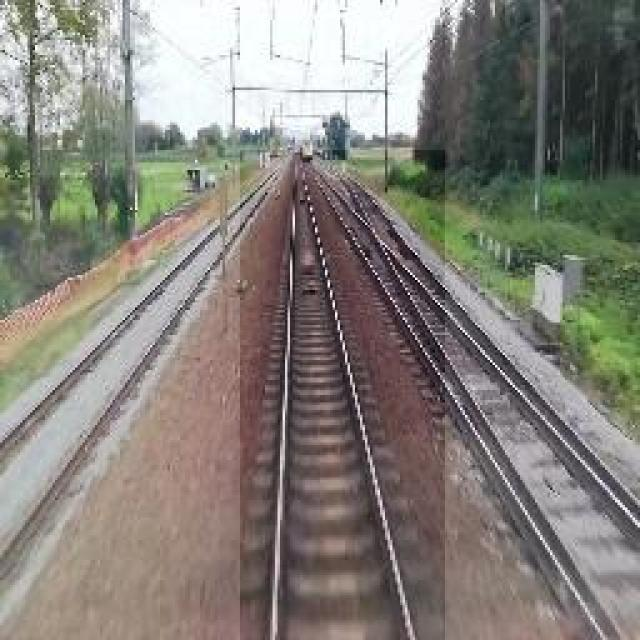rail: (242, 151, 446, 640)
